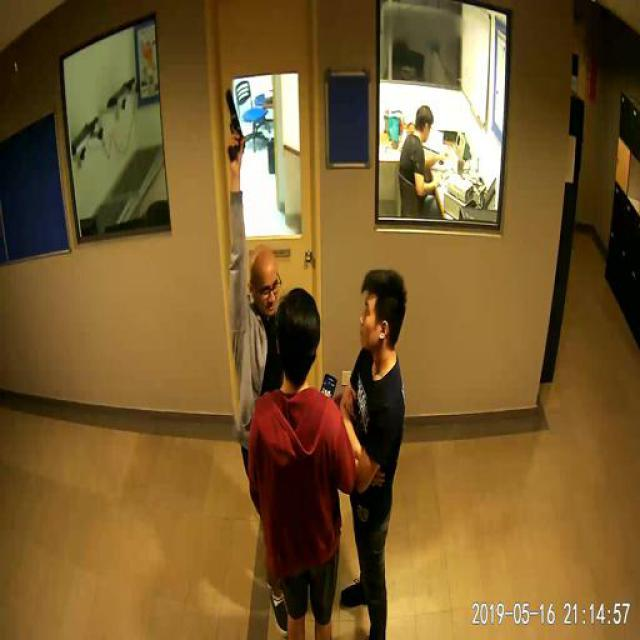Gun: (224, 90, 244, 161)
